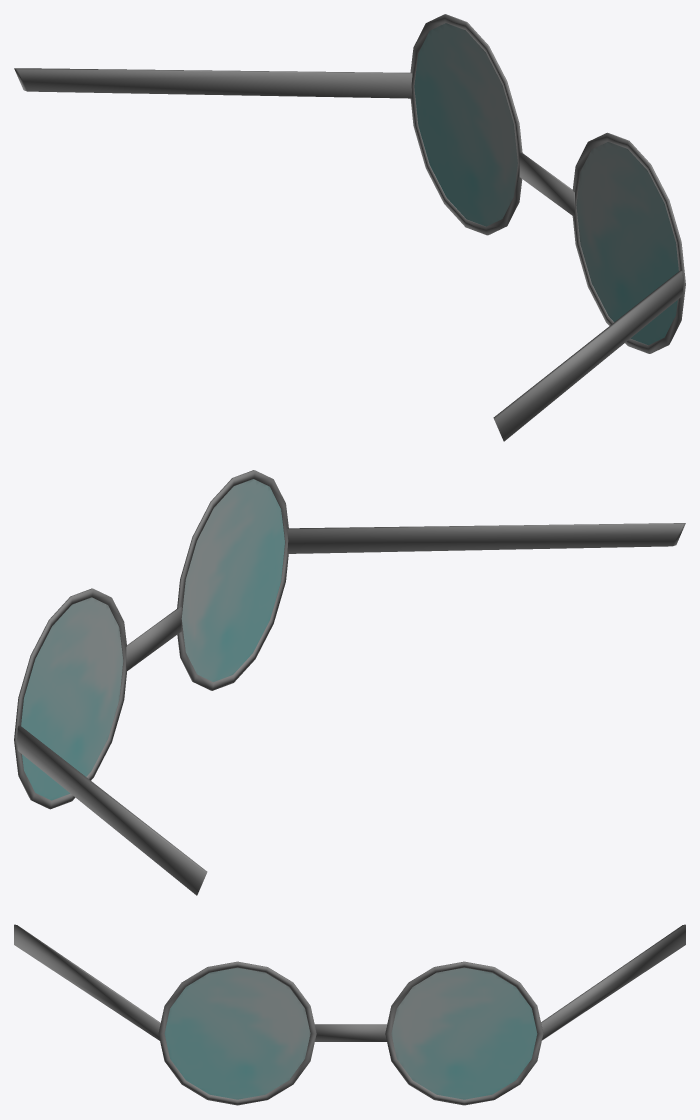
The model's file is human2g4.obj.
3 views of the same model, one above another, from view 1: azimuth 30°, elevation 25°; view 2: azimuth 150°, elevation 25°; view 3: azimuth 270°, elevation 25° (orthographic). The views are drawn at different scales.
Parts seen in each view (by area): view 1: ColobotMesh_1_ColobotMesh_, ColobotMesh_1.001_ColobotMesh_.001, ColobotMesh_1.002_ColobotMesh_.002; view 2: ColobotMesh_1_ColobotMesh_, ColobotMesh_1.001_ColobotMesh_.001, ColobotMesh_1.002_ColobotMesh_.002; view 3: ColobotMesh_1_ColobotMesh_, ColobotMesh_1.001_ColobotMesh_.001, ColobotMesh_1.002_ColobotMesh_.002.
Part boxes in pixels (x1,y1,x2,y2): ColobotMesh_1_ColobotMesh_: (414,23,678,345); ColobotMesh_1.001_ColobotMesh_.001: (14,68,683,441); ColobotMesh_1.002_ColobotMesh_.002: (410,14,685,353); ColobotMesh_1_ColobotMesh_: (21,479,284,800); ColobotMesh_1.001_ColobotMesh_.001: (17,523,685,895); ColobotMesh_1.002_ColobotMesh_.002: (14,470,288,809); ColobotMesh_1_ColobotMesh_: (164,967,537,1099); ColobotMesh_1.001_ColobotMesh_.001: (14,924,685,1041); ColobotMesh_1.002_ColobotMesh_.002: (158,961,543,1105).
Size of the model in its own units: 0.3616 by 0.24 by 1.02.
